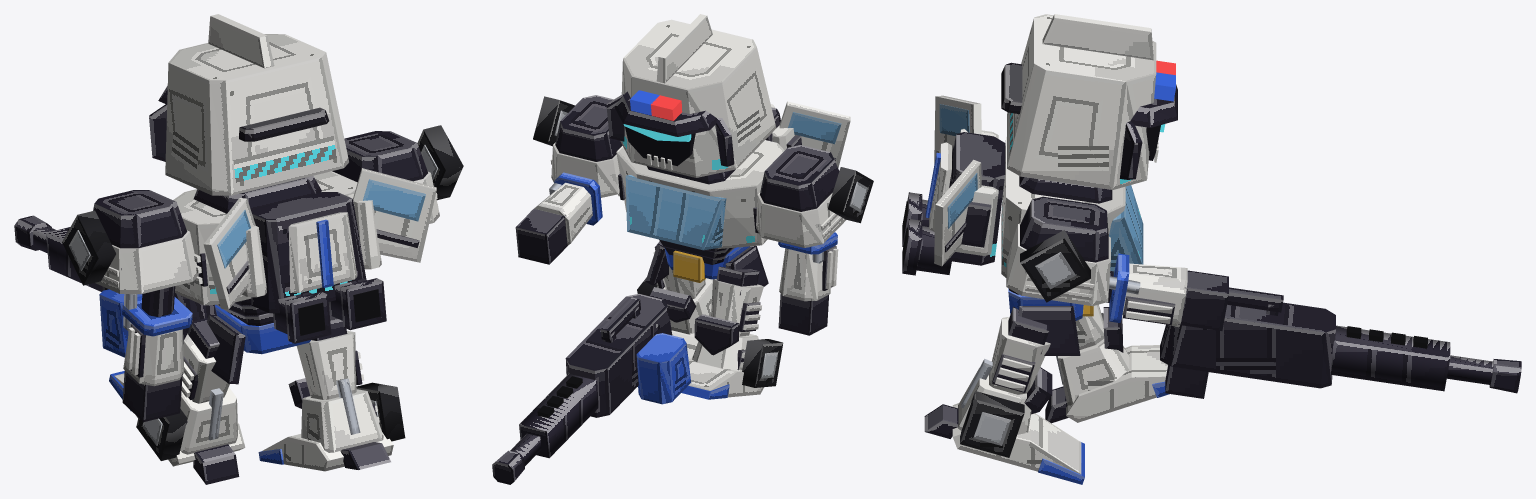
File: bda-pioneer.glb
The picture shows the model from 3 angles, left to right: view 1: azimuth 30°, elevation 25°; view 2: azimuth 150°, elevation 25°; view 3: azimuth 270°, elevation 25°; orthographic projection. The views are drawn at different scales.
Visible parts, largest first — view 1: pioneer-22, object 4, object 9, object 8, object 2; view 2: pioneer-22, object 17, object 4, object 12, object 9, object 16, object 8; view 3: pioneer-22, object 17, object 12, object 16.
Part boxes in pixels (left/top/right/bottom): pioneer-22: left=14, top=14, right=463, bottom=484; object 4: left=123, top=329, right=183, bottom=386; object 9: left=122, top=370, right=182, bottom=422; object 8: left=122, top=296, right=192, bottom=336; object 2: left=141, top=286, right=175, bottom=316; pioneer-22: left=492, top=14, right=873, bottom=484; object 17: left=515, top=208, right=567, bottom=264; object 4: left=779, top=248, right=830, bottom=301; object 12: left=530, top=182, right=592, bottom=245; object 9: left=778, top=292, right=828, bottom=335; object 16: left=554, top=172, right=602, bottom=225; object 8: left=778, top=232, right=837, bottom=254; pioneer-22: left=902, top=14, right=1521, bottom=484; object 17: left=1178, top=270, right=1228, bottom=330; object 12: left=1122, top=263, right=1187, bottom=327; object 16: left=1109, top=253, right=1129, bottom=322.
Size of the model in its own units: 1.86 by 2.12 by 2.76.
126 materials, 120 textured.
